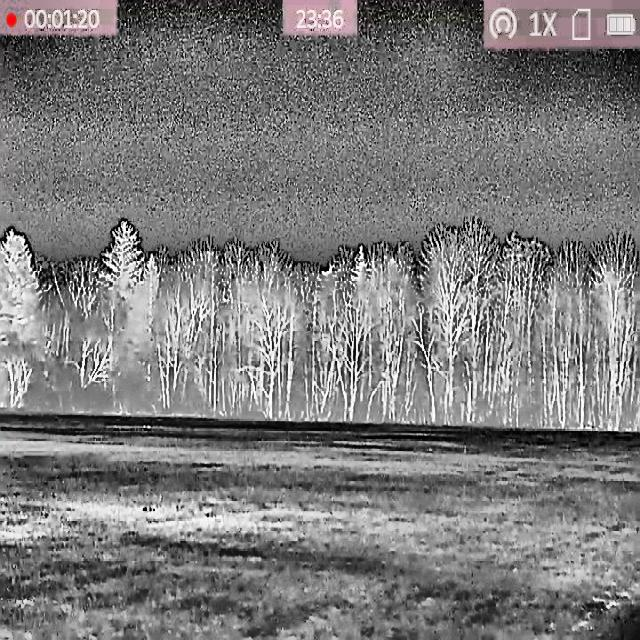drone: (221, 294, 231, 304)
